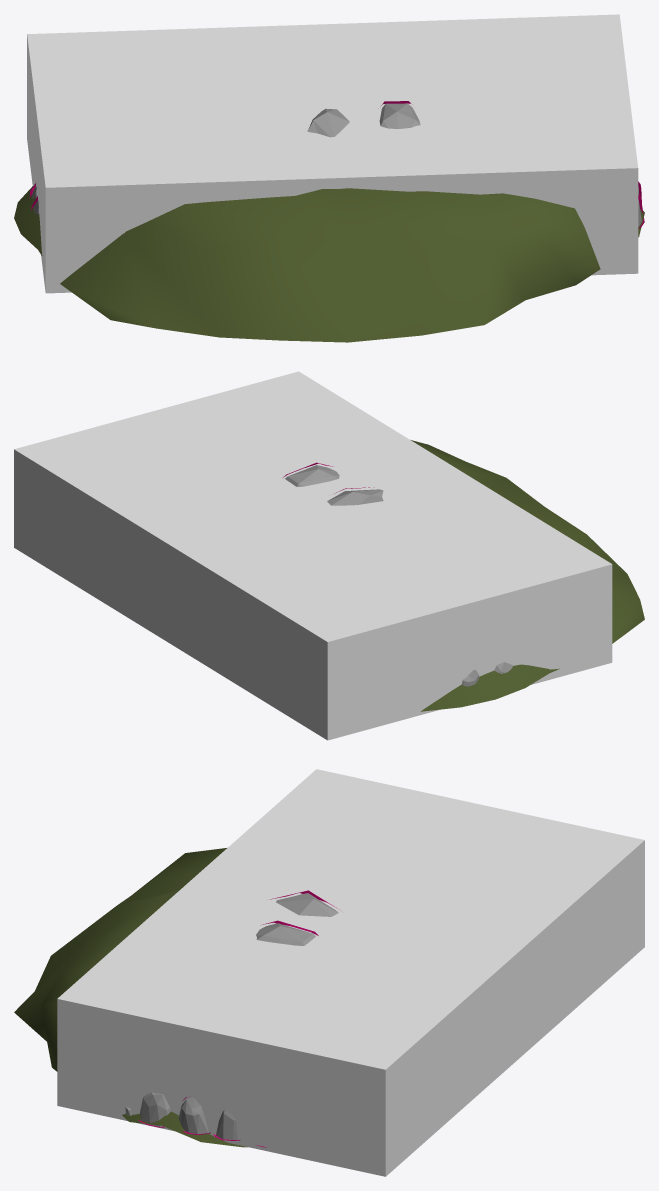
Rendered from dolmen.gltf.
3 renders of one model, top to bottom at view 1: azimuth 30°, elevation 25°; view 2: azimuth 150°, elevation 25°; view 3: azimuth 270°, elevation 25°, orthographic. The views are drawn at different scales.
Visible parts, largest first — view 1: Box, Dolm plane, dolmen; view 2: Box, Dolm plane, dolmen; view 3: Box, Dolm plane, dolmen.
Boxes of the visible parts, box(x1,y1,x2,y2) form: Box: box(27, 14, 638, 293); Dolm plane: box(14, 186, 644, 342); dolmen: box(32, 103, 641, 226); Box: box(14, 371, 612, 740); Dolm plane: box(411, 440, 644, 711); dolmen: box(285, 465, 512, 686); Box: box(57, 769, 644, 1176); Dolm plane: box(14, 848, 247, 1147); dolmen: box(125, 893, 338, 1139).
Size of the model in its own units: 20.63 by 3.9 by 18.3.
Materials: 3 (2 with a texture image).
